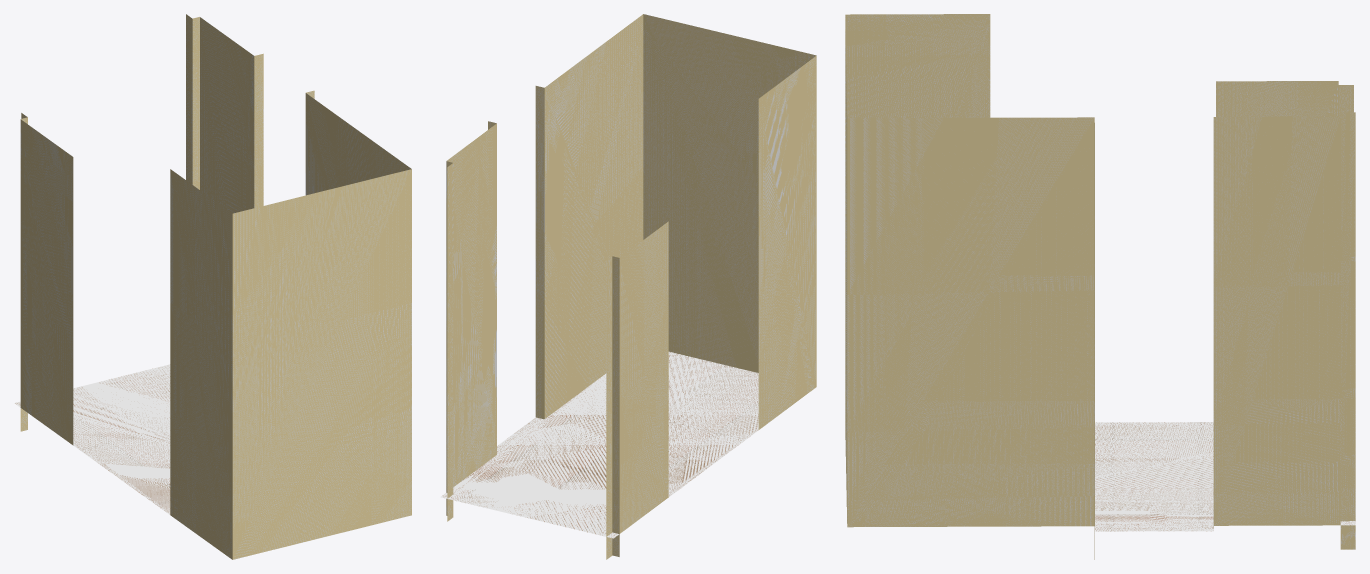
The model's file is COM008.obj.
3 views of the same model, side by side, from view 1: azimuth 30°, elevation 25°; view 2: azimuth 150°, elevation 25°; view 3: azimuth 270°, elevation 25° (orthographic). The views are drawn at different scales.
Parts seen in each view (by area): view 1: Mesh1 COM008 Model; view 2: Mesh1 COM008 Model; view 3: Mesh1 COM008 Model.
Boxes of the visible parts, x1=… form: Mesh1 COM008 Model: x1=14, y1=14, x2=411, y2=559; Mesh1 COM008 Model: x1=440, y1=14, x2=816, y2=559; Mesh1 COM008 Model: x1=845, y1=14, x2=1355, y2=559.
Bounding box in the file's own units: 2.08 × 3.85 × 4.07.
3 materials, 1 textured.
